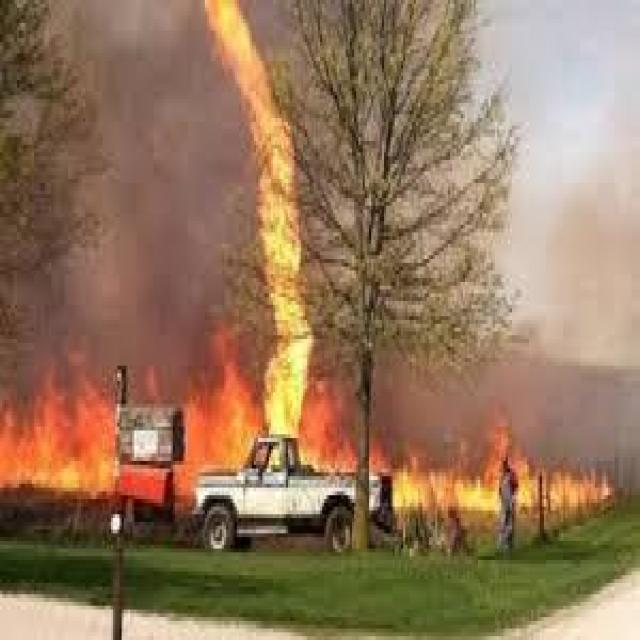fire: (182, 0, 349, 469), (369, 432, 611, 507), (4, 397, 109, 496)
other: (112, 453, 173, 507)
